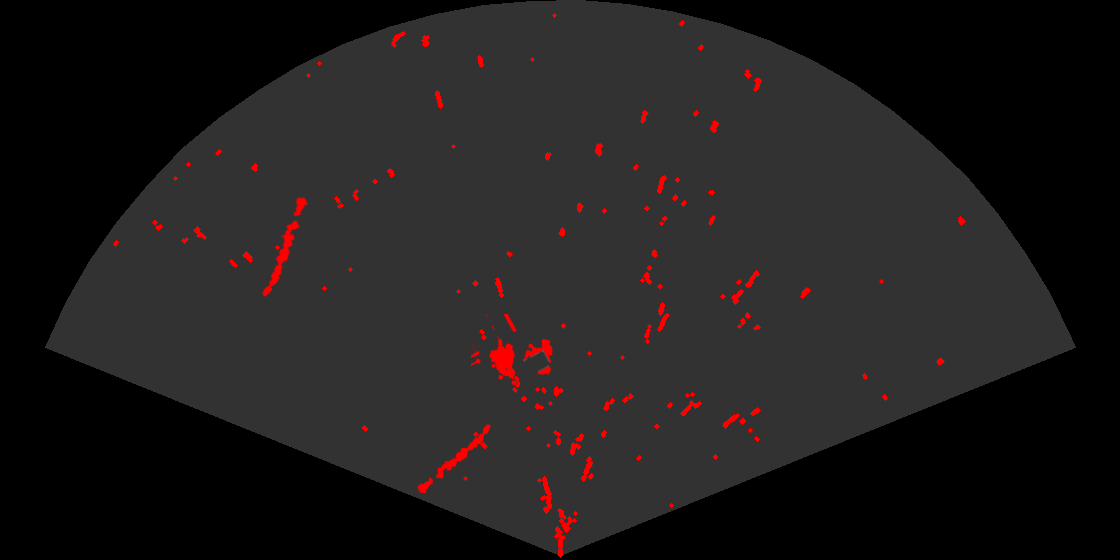cage: (471, 314, 554, 387)
chain: (416, 423, 492, 495), (261, 195, 310, 298)
